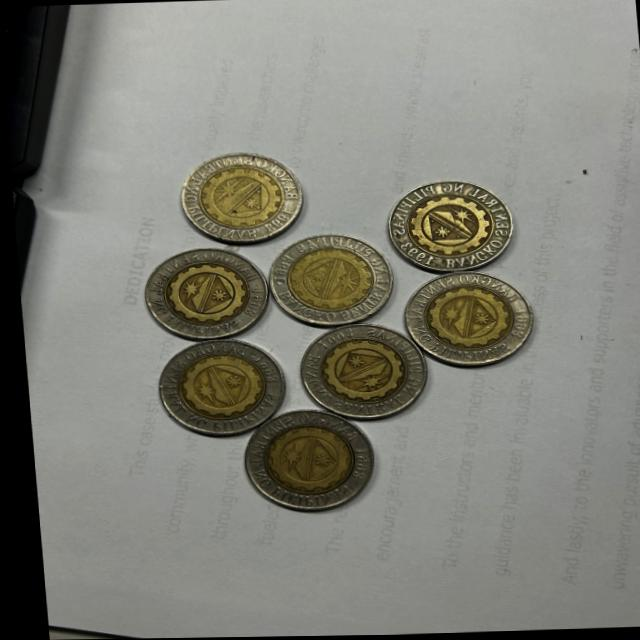10_Old_Back: (235, 425, 355, 502), (148, 248, 257, 332), (159, 342, 259, 427), (397, 185, 504, 264), (185, 155, 290, 235), (417, 277, 517, 360), (274, 240, 378, 317), (315, 332, 411, 415)
